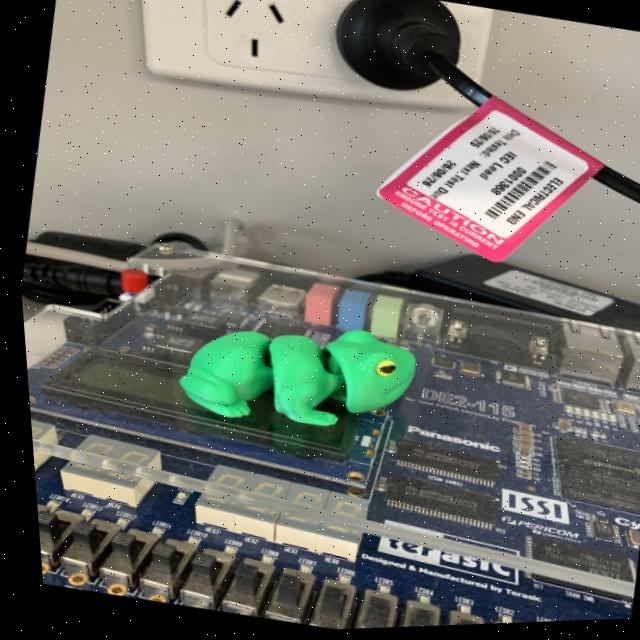frog: (147, 284, 439, 459)
